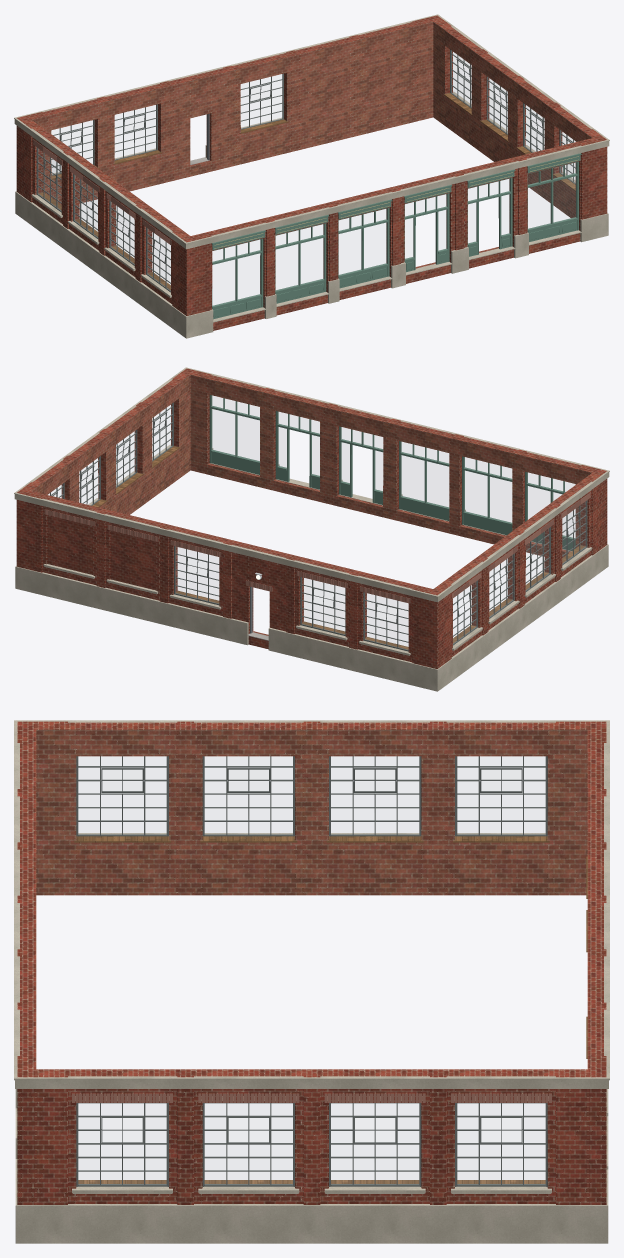
The model's file is envelope_ground.glb.
3 renders of one model, top to bottom at view 1: azimuth 30°, elevation 25°; view 2: azimuth 150°, elevation 25°; view 3: azimuth 270°, elevation 25°, orthographic. The views are drawn at different scales.
Visible parts, largest first — view 1: envelope_ground_brick_i, envelope_ground_brick, envelope_ground_glass, envelope_ground_stone, envelope_ground_shop_g, envelope_ground_win_k, envelope_ground_timber, envelope_ground_brick_d, envelope_ground_gold; view 2: envelope_ground_brick, envelope_ground_brick_i, envelope_ground_stone, envelope_ground_glass, envelope_ground_shop_g, envelope_ground_win_k, envelope_ground_brick_d, envelope_ground_timber; view 3: envelope_ground_brick_i, envelope_ground_brick, envelope_ground_glass, envelope_ground_stone, envelope_ground_win_k, envelope_ground_timber, envelope_ground_brick_d.
Part boxes in pixels (left/top/right/bottom): envelope_ground_brick_i: left=22, top=19, right=599, bottom=293; envelope_ground_brick: left=16, top=15, right=607, bottom=330; envelope_ground_glass: left=38, top=52, right=575, bottom=305; envelope_ground_stone: left=14, top=14, right=609, bottom=338; envelope_ground_shop_g: left=211, top=153, right=581, bottom=319; envelope_ground_win_k: left=36, top=49, right=575, bottom=292; envelope_ground_timber: left=38, top=93, right=575, bottom=290; envelope_ground_brick_d: left=33, top=139, right=171, bottom=245; envelope_ground_gold: left=214, top=156, right=578, bottom=248; envelope_ground_brick: left=16, top=368, right=607, bottom=668; envelope_ground_brick_i: left=24, top=372, right=601, bottom=634; envelope_ground_stone: left=14, top=367, right=609, bottom=691; envelope_ground_glass: left=49, top=396, right=585, bottom=648; envelope_ground_shop_g: left=209, top=395, right=575, bottom=550; envelope_ground_win_k: left=50, top=402, right=587, bottom=651; envelope_ground_brick_d: left=44, top=492, right=590, bottom=603; envelope_ground_timber: left=92, top=446, right=585, bottom=649; envelope_ground_brick_i: left=35, top=722, right=588, bottom=1204; envelope_ground_brick: left=17, top=721, right=606, bottom=1204; envelope_ground_glass: left=79, top=757, right=544, bottom=1183; envelope_ground_stone: left=14, top=720, right=609, bottom=1243; envelope_ground_win_k: left=76, top=756, right=547, bottom=1186; envelope_ground_timber: left=74, top=836, right=587, bottom=1183; envelope_ground_brick_d: left=72, top=1093, right=551, bottom=1102.
Size of the model in its own units: 20.16 by 4.35 by 14.16.
Materials: 14 (5 with a texture image).
